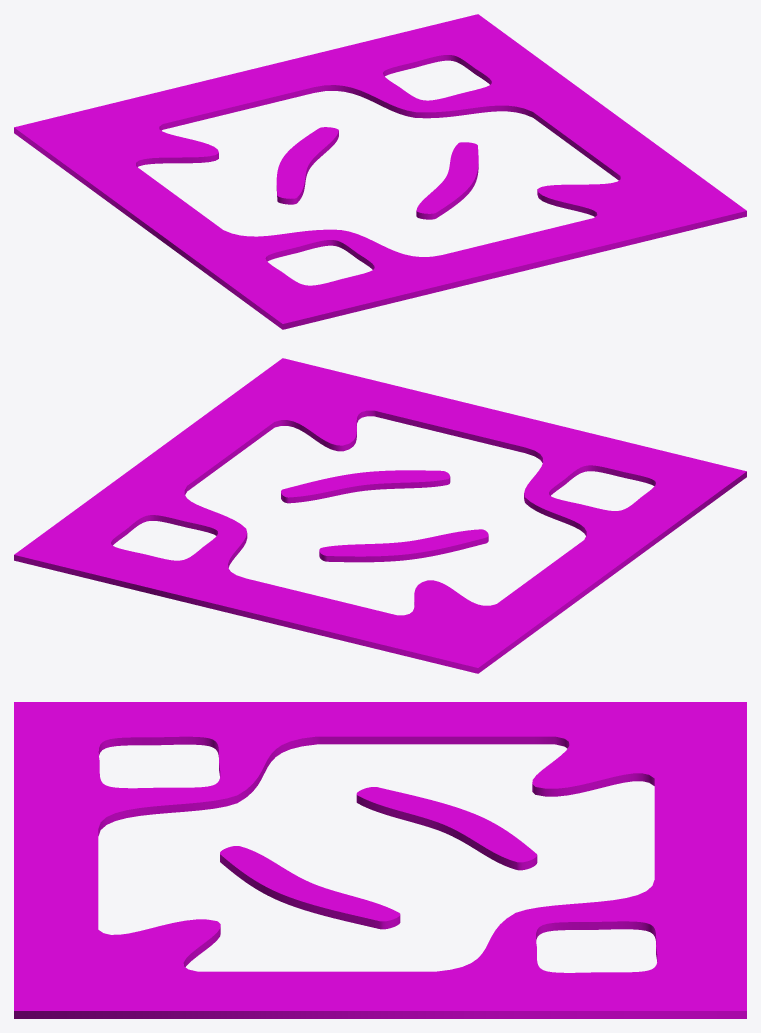
File: lava.fbx
3 renders of one model, top to bottom at view 1: azimuth 30°, elevation 25°; view 2: azimuth 150°, elevation 25°; view 3: azimuth 270°, elevation 25°, orthographic. The views are drawn at different scales.
Visible parts, largest first — view 1: Curve; view 2: Curve; view 3: Curve.
Part boxes in pixels (bbox=[...]): Curve: bbox=[14, 14, 746, 329]; Curve: bbox=[14, 358, 746, 673]; Curve: bbox=[14, 702, 746, 1018].
Bounding box in the file's own units: 184 × 2.2 × 185.
